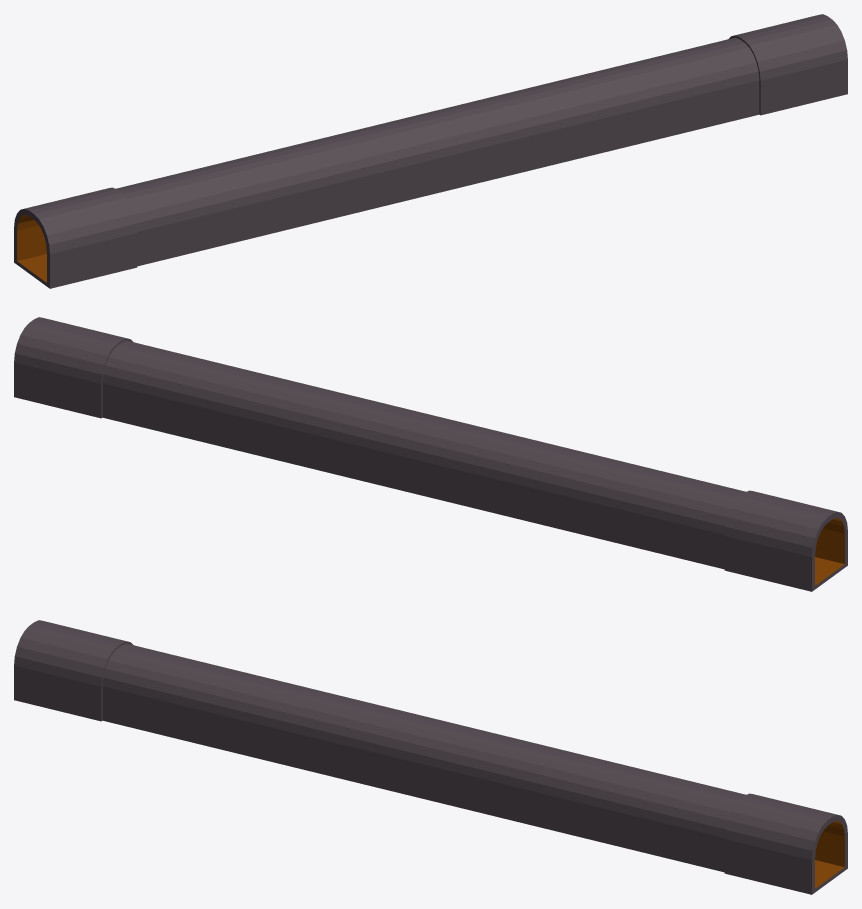
Rendered from boru.glb.
3 views of the same model, one above another, from view 1: azimuth 30°, elevation 25°; view 2: azimuth 150°, elevation 25°; view 3: azimuth 330°, elevation 25° (orthographic).
Visible parts, largest first — view 1: Cube, Cube.001; view 2: Cube, Cube.001; view 3: Cube, Cube.001.
Boxes of the visible parts, x1,y1,x2,y2 form: Cube: [14, 14, 847, 288]; Cube.001: [17, 215, 46, 282]; Cube: [14, 317, 847, 591]; Cube.001: [815, 518, 844, 585]; Cube: [14, 620, 847, 894]; Cube.001: [815, 821, 844, 888].
Bounding box in the file's own units: 296 × 22.37 × 23.11.
